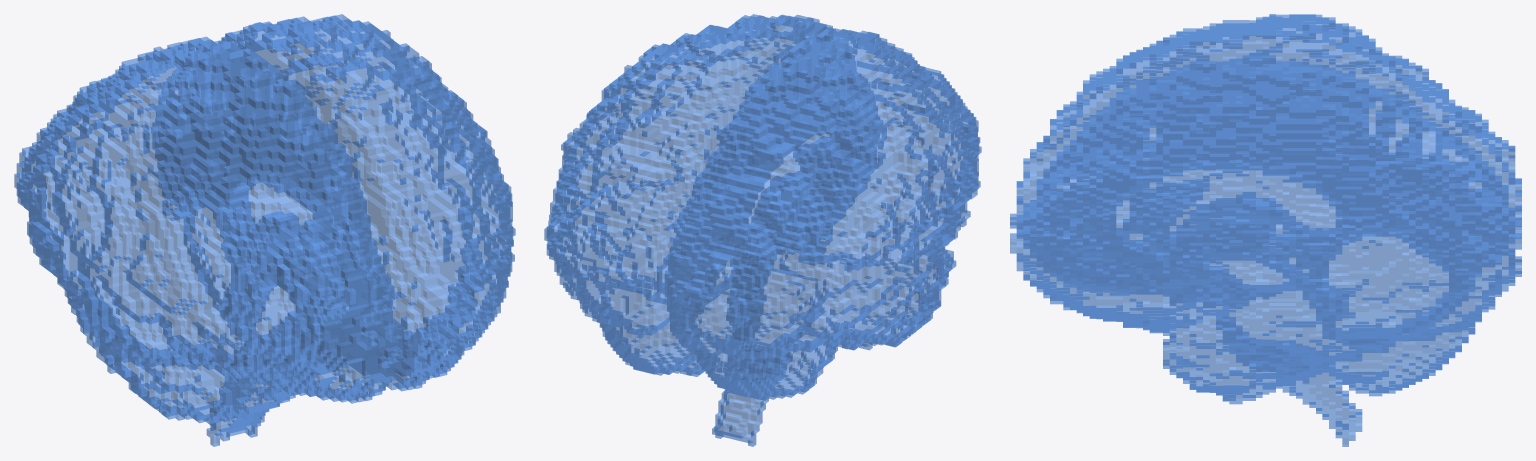
Rendered from brain.glb.
3 renders of one model, left to right at view 1: azimuth 30°, elevation 25°; view 2: azimuth 150°, elevation 25°; view 3: azimuth 270°, elevation 25°, orthographic. The views are drawn at different scales.
Visible parts, largest first — view 1: Brain; view 2: Brain; view 3: Brain.
Part boxes in pixels (x1,y1,x2,y2): Brain: (14, 14, 515, 446); Brain: (544, 14, 981, 446); Brain: (1010, 14, 1521, 446).
Size of the model in its own units: 4085 by 4214 by 4992.
